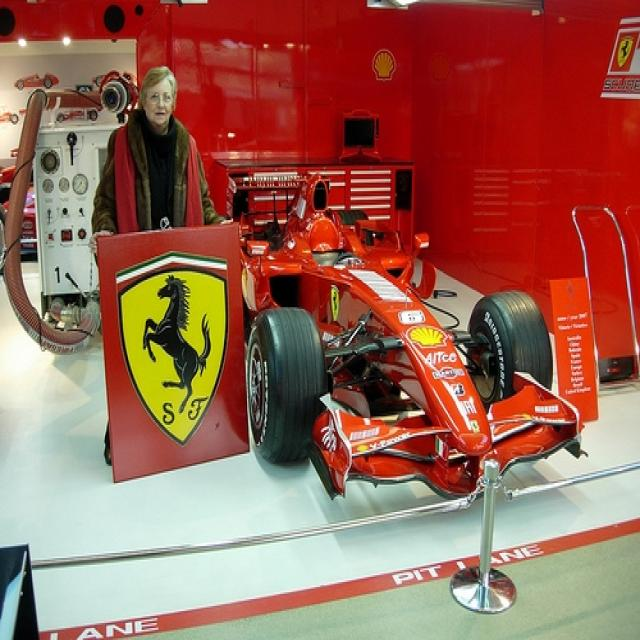ferrari: (118, 250, 230, 448), (612, 33, 639, 73)
